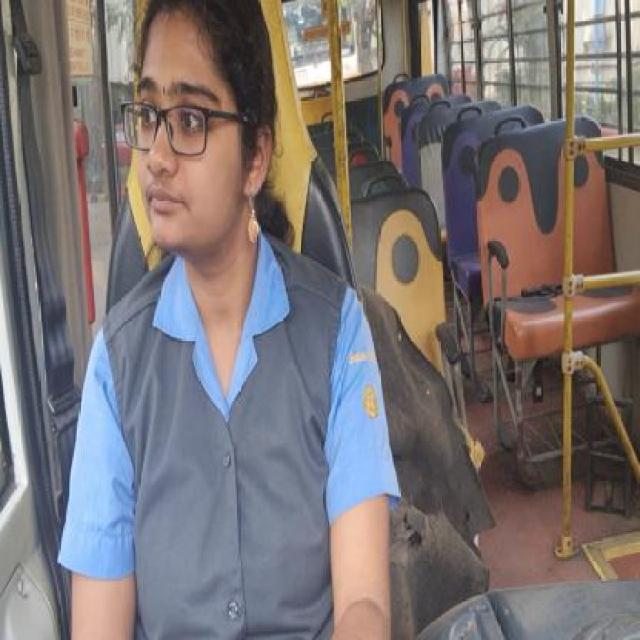Inattentive: (119, 0, 278, 255)
